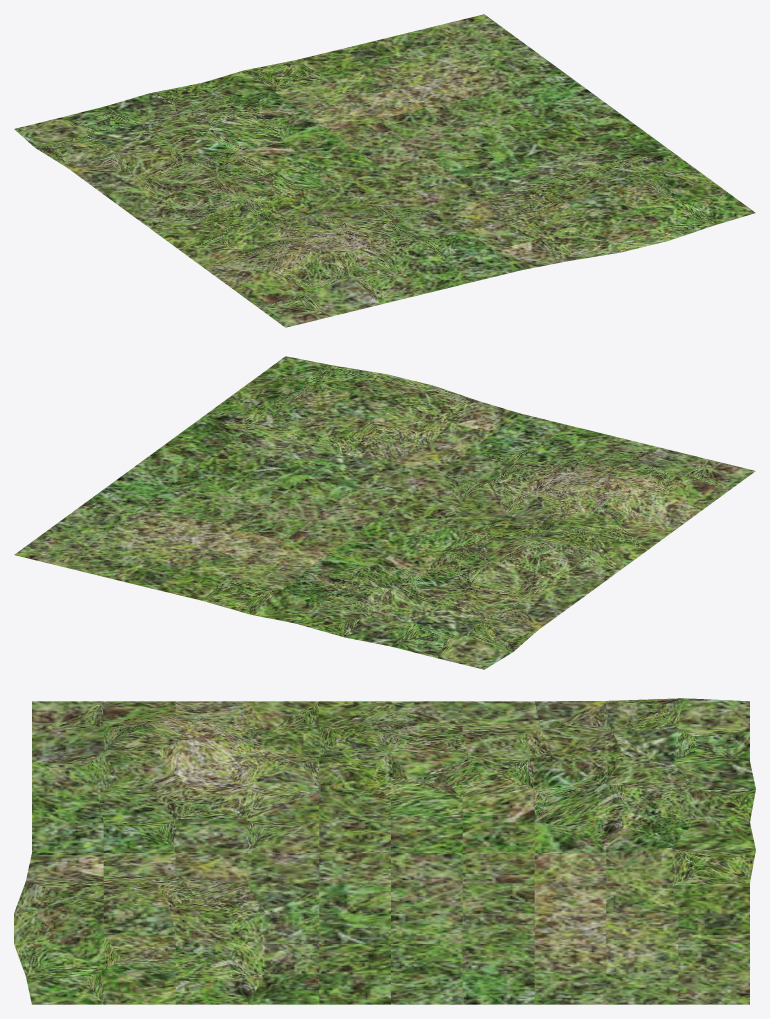
File: terrain_lod1.obj
3 views of the same model, one above another, from view 1: azimuth 30°, elevation 25°; view 2: azimuth 150°, elevation 25°; view 3: azimuth 270°, elevation 25° (orthographic). The views are drawn at different scales.
Visible parts, largest first — view 1: Plane; view 2: Plane; view 3: Plane.
Boxes of the visible parts, x1,y1,x2,y2 form: Plane: [14, 14, 755, 327]; Plane: [14, 356, 755, 669]; Plane: [14, 698, 755, 1004].
Size of the model in its own units: 96.03 by 2.84 by 98.41.
Materials: 1 (1 with a texture image).
